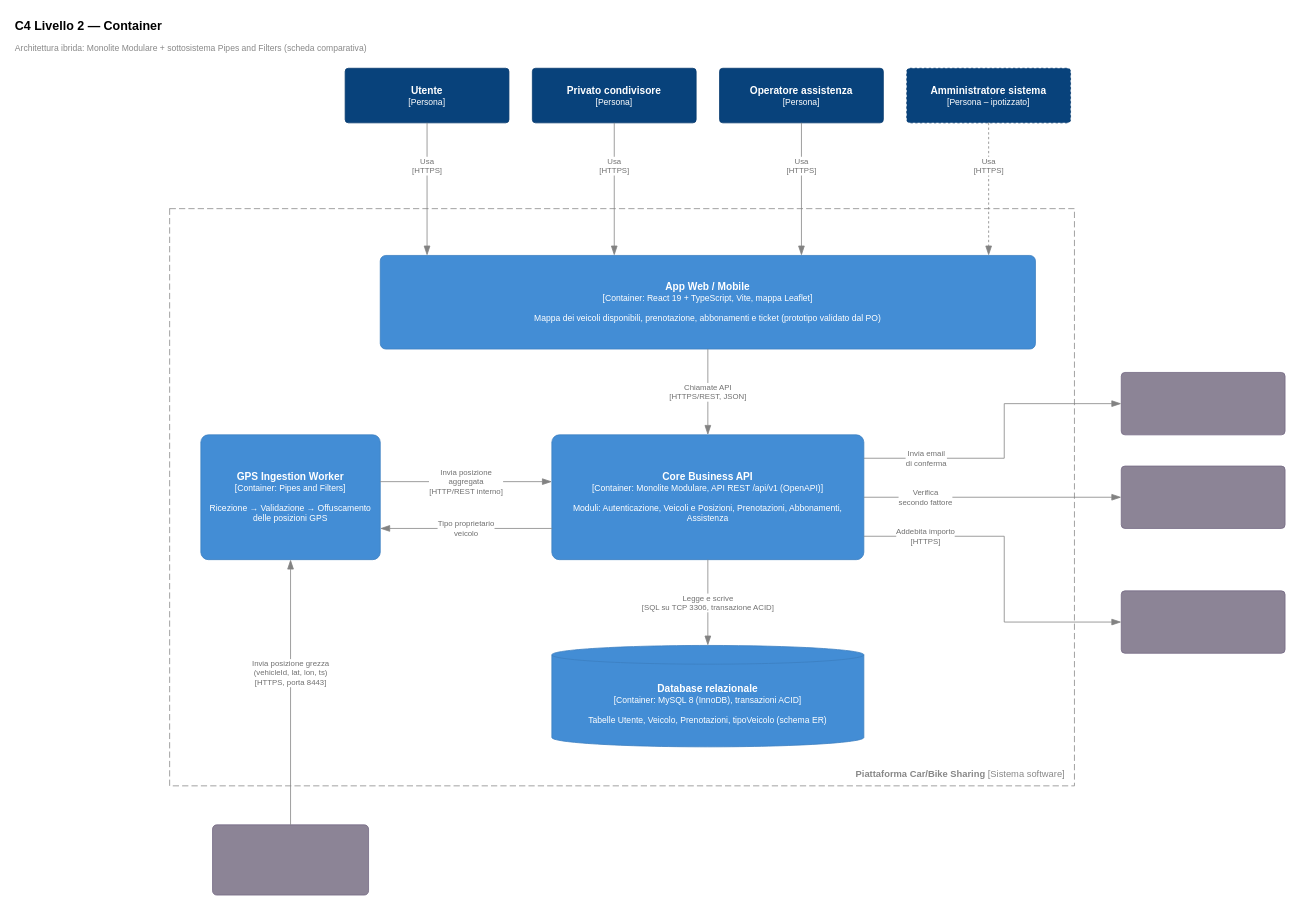
Image size: 1299x909. Some labels were removed from this diagram. The shapes that lost their labels are listed below. From the top down, each one's centre as x and y in pixels, then its label:
At (1202,403): "Servizio Email [Sistema esterno]".
At (1202,496): "Servizio 2FA [Sistema esterno]".
At (1202,621): "Sistema Gestione Pagamenti [Sistema esterno]".
At (290,859): "Dispositivo GPS [Sistema esterno]".
